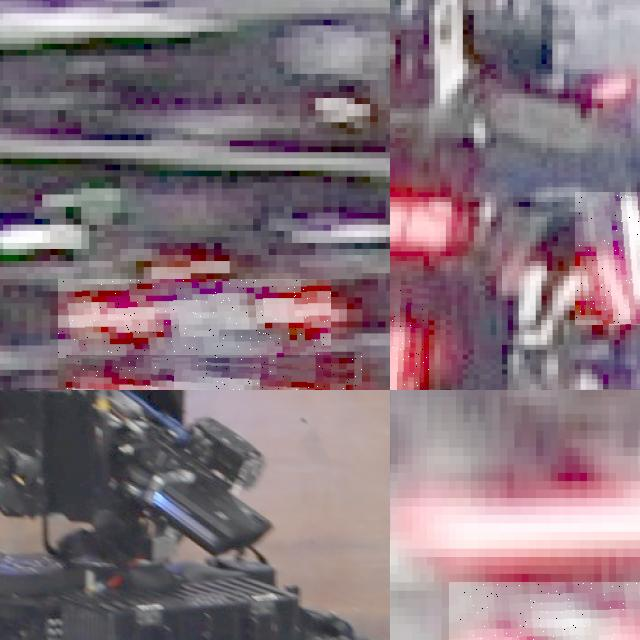R1: (58, 279, 331, 358), (65, 354, 362, 390)
R3: (449, 582, 640, 640)
R4: (575, 192, 640, 325)
